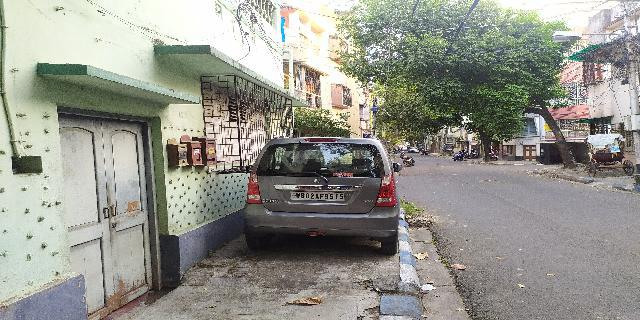Car: (241, 133, 401, 263)
